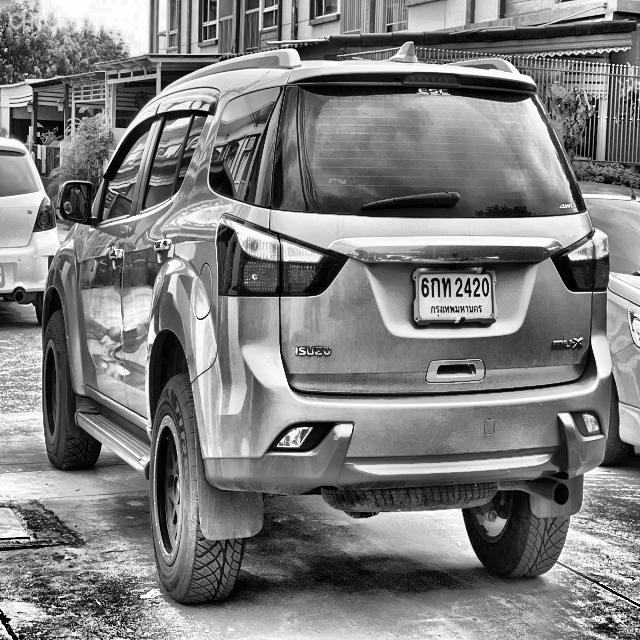license-plate: (410, 263, 500, 327)
